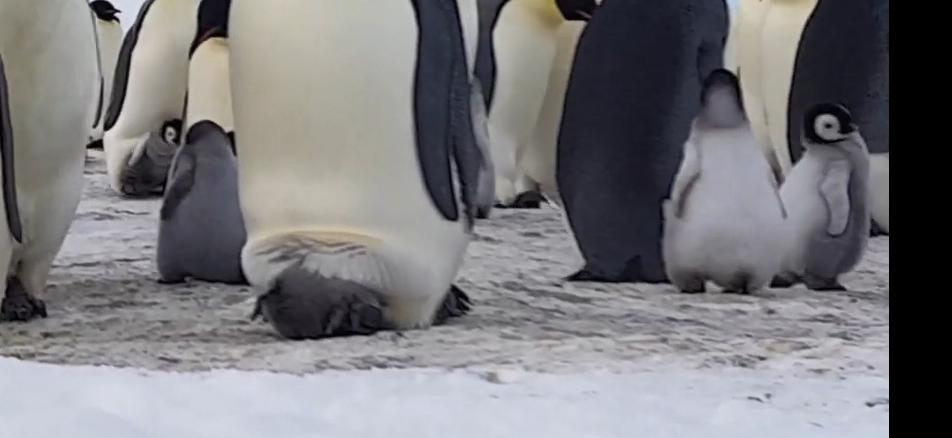Emperor Penguin: (229, 0, 480, 226), (584, 0, 720, 260), (460, 0, 618, 206), (730, 0, 842, 134), (720, 0, 812, 122), (0, 0, 13, 166)
